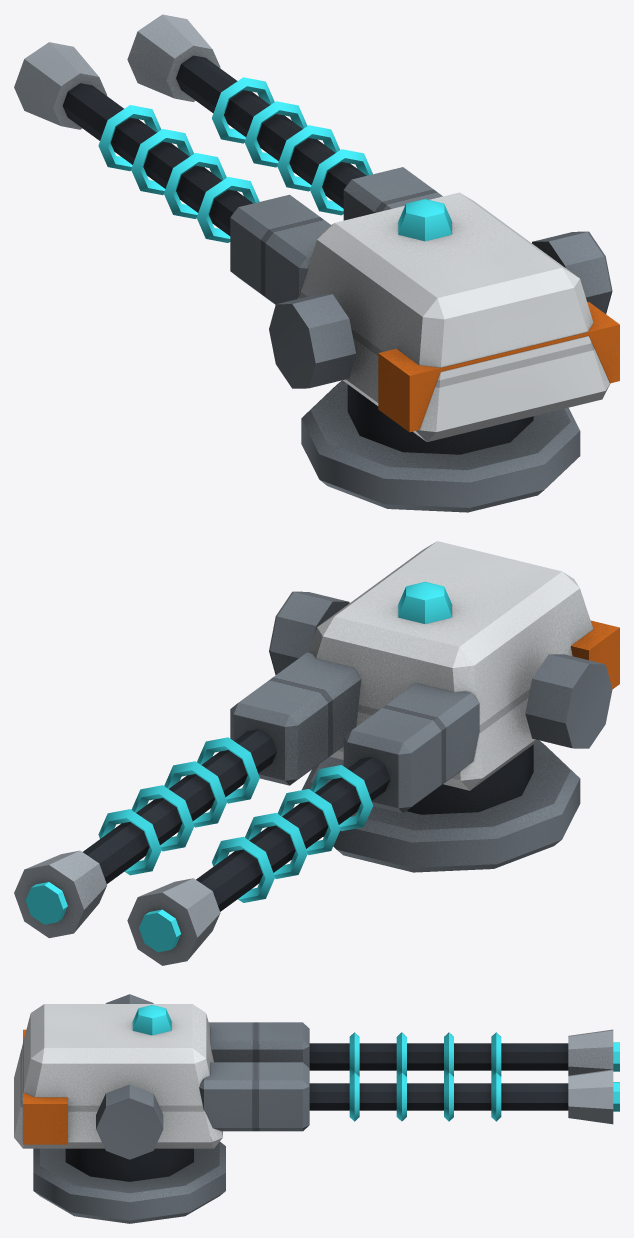
File: arma_laser_nave.fbx
3 views of the same model, one above another, from view 1: azimuth 30°, elevation 25°; view 2: azimuth 150°, elevation 25°; view 3: azimuth 270°, elevation 25° (orthographic). The views are drawn at different scales.
Parts seen in each view (by area): view 1: arma_laser_nave_cabeza, arma_laser_nave_canones, arma_laser_nave, arma_laser_nave_neon; view 2: arma_laser_nave_cabeza, arma_laser_nave_canones, arma_laser_nave, arma_laser_nave_neon; view 3: arma_laser_nave_canones, arma_laser_nave_cabeza, arma_laser_nave, arma_laser_nave_neon.
Part boxes in pixels (x1=…): arma_laser_nave_cabeza: x1=269, y1=192, x2=619, y2=441; arma_laser_nave_canones: x1=14, y1=14, x2=442, y2=304; arma_laser_nave: x1=301, y1=380, x2=580, y2=512; arma_laser_nave_neon: x1=98, y1=77, x2=451, y2=242; arma_laser_nave_cabeza: x1=269, y1=541, x2=619, y2=790; arma_laser_nave_canones: x1=14, y1=652, x2=479, y2=965; arma_laser_nave: x1=302, y1=740, x2=580, y2=872; arma_laser_nave_neon: x1=25, y1=581, x2=451, y2=952; arma_laser_nave_canones: x1=199, y1=1022, x2=613, y2=1131; arma_laser_nave_cabeza: x1=14, y1=994, x2=222, y2=1159; arma_laser_nave: x1=33, y1=1141, x2=225, y2=1223; arma_laser_nave_neon: x1=132, y1=1005, x2=619, y2=1121.
Bounding box in the file's own units: 2.2 × 1.75 × 5.39.
2 materials, 2 textured.
